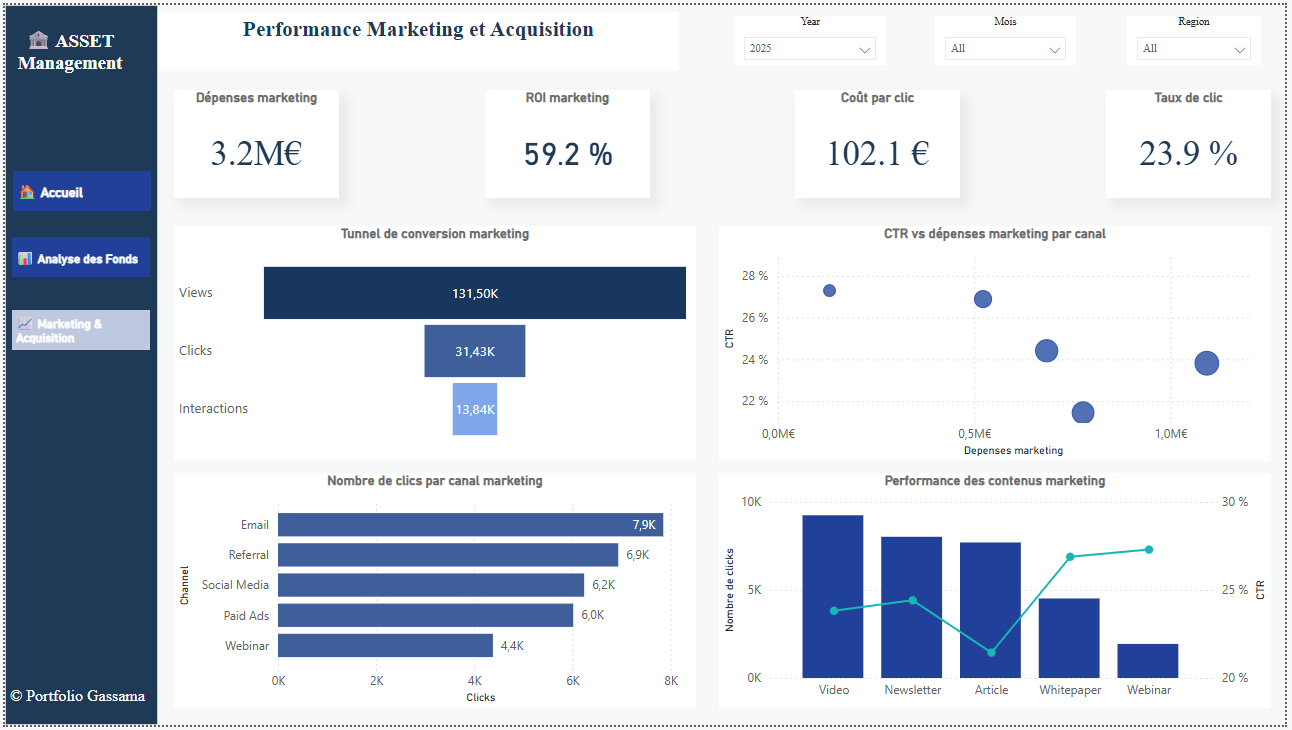

What the dashboard file says about the page in this screenshot:
{"tool":"powerbi","page":{"name":"Marketing & Acquisition","canvas":[1280,720],"ordinal":2},"visuals":[{"type":"textbox","box":[153,7,521,59],"z":0},{"type":"shape","box":[0,0,153,720],"z":1000},{"type":"slicer","title":"Year","fields":{"Values":["DimDate.Date.Variation.Date Hierarchy.Year"]},"box":[729,11,152,49],"z":3000},{"type":"slicer","title":"Mois","fields":{"Values":["DimDate.Date.Variation.Date Hierarchy.Month"]},"box":[930,11,141,49],"z":4000},{"type":"slicer","title":"Region","fields":{"Values":["Sales.Region"]},"box":[1122,11,134,49],"z":5000},{"type":"advanceCardE03760C5AB684758B56AA29F9E6C257B","title":"Dépenses marketing","fields":{"mainMeasure":["Mesures_Marketing.Total Marketing Spend"]},"box":[169,85,165,108],"z":6000},{"type":"advanceCardE03760C5AB684758B56AA29F9E6C257B","title":"Taux de clic","fields":{"mainMeasure":["Mesures_Marketing.Best Channel"]},"box":[1101,85,165,108],"z":7000},{"type":"advanceCardE03760C5AB684758B56AA29F9E6C257B","title":"Coût par clic","fields":{"mainMeasure":["Mesures_Marketing.Cost per Click"]},"box":[790.3,85,165,108],"z":8000},{"type":"advanceCardE03760C5AB684758B56AA29F9E6C257B","title":"ROI marketing","fields":{"mainMeasure":["Mesures_Marketing.Marketing ROI"]},"box":[479.7,85,165,108],"z":9000},{"type":"funnel","title":"Tunnel de conversion marketing","fields":{"Category":["Funnel Stage.Stage"],"Y":["Funnel Stage.Funnel Value"]},"box":[169,221,522,235],"z":10000},{"type":"clusteredBarChart","title":"Nombre de clics par canal marketing","fields":{"Category":["Marketing.Channel"],"Y":["Sum(Marketing.Clicks)"]},"box":[169,468,522,235],"z":11000},{"type":"lineStackedColumnComboChart","title":"Performance des contenus marketing","fields":{"Category":["Marketing.Content_Type"],"Y":["Sum(Marketing.Clicks)"],"Y2":["Mesures_Marketing.CTR"]},"box":[714,468,552,235],"z":12000},{"type":"scatterChart","title":"CTR vs dépenses marketing par canal","fields":{"X":["Mesures_Marketing.Total Marketing Spend"],"Y":["Mesures_Marketing.CTR"],"Size":["Sum(Marketing.Clicks)"],"Category":["Marketing.Content_Type"]},"box":[714,221,552,235],"z":13000},{"type":"textbox","box":[0,0,130,96],"z":13001},{"type":"actionButton","box":[8,166,138,40],"z":13002},{"type":"actionButton","box":[7,232,138,40],"z":13003},{"type":"actionButton","box":[7,305,138,40],"z":13004},{"type":"textbox","box":[0,677,153,29],"z":13005}]}

Visuals, with their boxes on the page's 1280x720 design canvas (x1, y1, x2, y2). These are canvas units, not pixel positions in the 1292x730 screenshot, which may show the page scaled, cropped or inside an application window:
textbox: bbox=[153, 7, 674, 66]
shape: bbox=[0, 0, 153, 720]
"Year" slicer: bbox=[729, 11, 881, 60]
"Mois" slicer: bbox=[930, 11, 1071, 60]
"Region" slicer: bbox=[1122, 11, 1256, 60]
"Dépenses marketing" advanceCardE03760C5AB684758B56AA29F9E6C257B: bbox=[169, 85, 334, 193]
"Taux de clic" advanceCardE03760C5AB684758B56AA29F9E6C257B: bbox=[1101, 85, 1266, 193]
"Coût par clic" advanceCardE03760C5AB684758B56AA29F9E6C257B: bbox=[790, 85, 955, 193]
"ROI marketing" advanceCardE03760C5AB684758B56AA29F9E6C257B: bbox=[480, 85, 645, 193]
"Tunnel de conversion marketing" funnel: bbox=[169, 221, 691, 456]
"Nombre de clics par canal marketing" clusteredBarChart: bbox=[169, 468, 691, 703]
"Performance des contenus marketing" lineStackedColumnComboChart: bbox=[714, 468, 1266, 703]
"CTR vs dépenses marketing par canal" scatterChart: bbox=[714, 221, 1266, 456]
textbox: bbox=[0, 0, 130, 96]
actionButton: bbox=[8, 166, 146, 206]
actionButton: bbox=[7, 232, 145, 272]
actionButton: bbox=[7, 305, 145, 345]
textbox: bbox=[0, 677, 153, 706]
